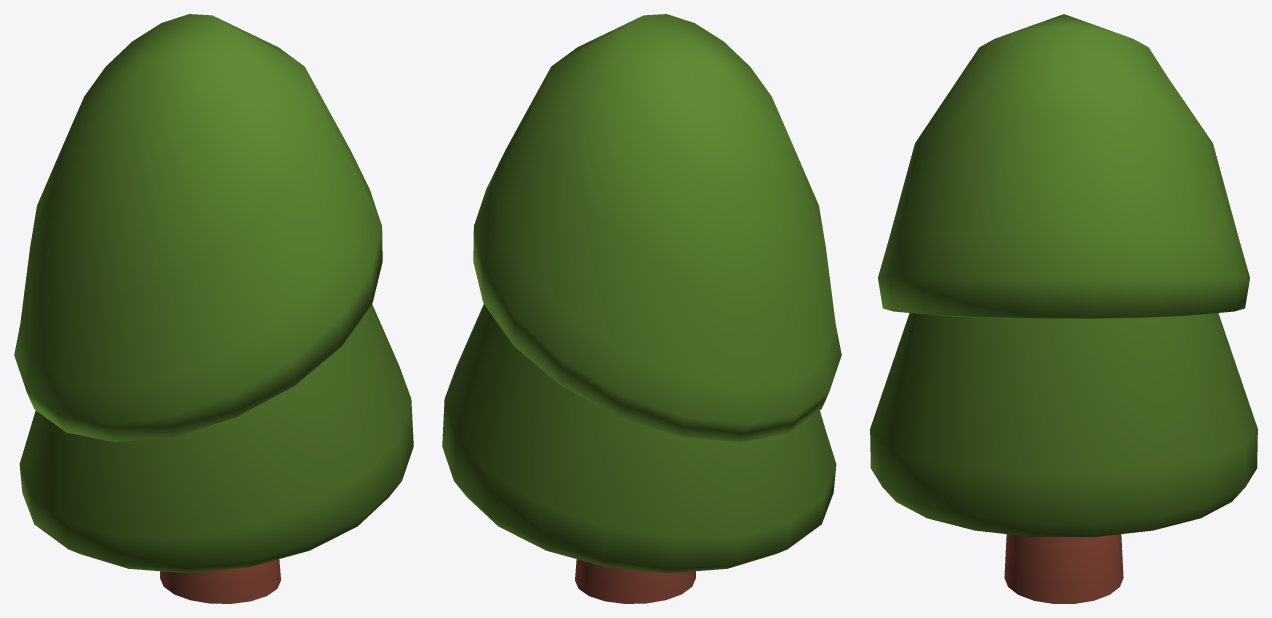
Rendered from Tree_Big.FBX.
3 renders of one model, left to right at view 1: azimuth 30°, elevation 25°; view 2: azimuth 150°, elevation 25°; view 3: azimuth 270°, elevation 25°, orthographic.
Parts seen in each view (by area): view 1: Tree_Big; view 2: Tree_Big; view 3: Tree_Big.
Boxes of the visible parts, x1,y1,x2,y2 form: Tree_Big: (14,14,413,603); Tree_Big: (442,14,841,603); Tree_Big: (870,14,1257,603).
Bounding box in the file's own units: 141 × 220 × 141.
1 material, 1 textured.
